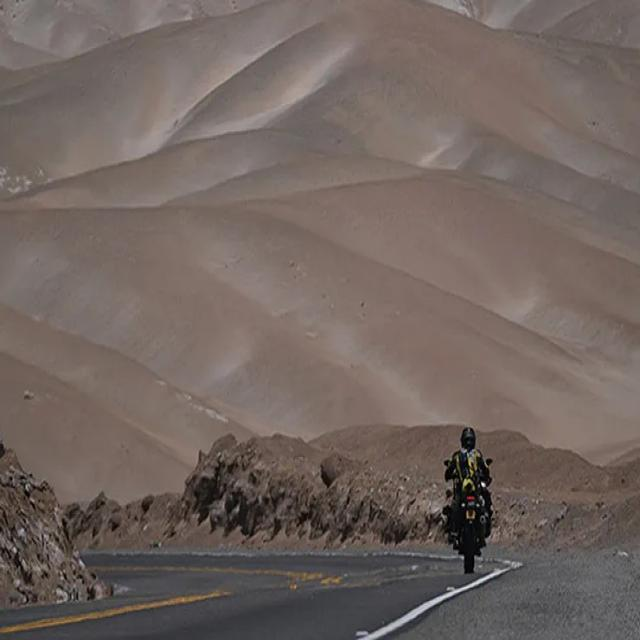MOTORCYCLE: (444, 456, 495, 576)
